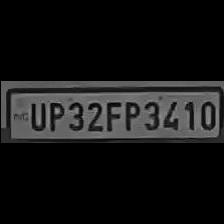0: (197, 97, 217, 130)
1: (180, 98, 196, 130)
2: (84, 98, 104, 132)
3: (64, 98, 84, 132), (140, 97, 160, 131)
4: (160, 97, 180, 130)
F: (103, 98, 120, 132)
P: (44, 98, 64, 132), (120, 98, 138, 132)
U: (25, 99, 45, 131)
